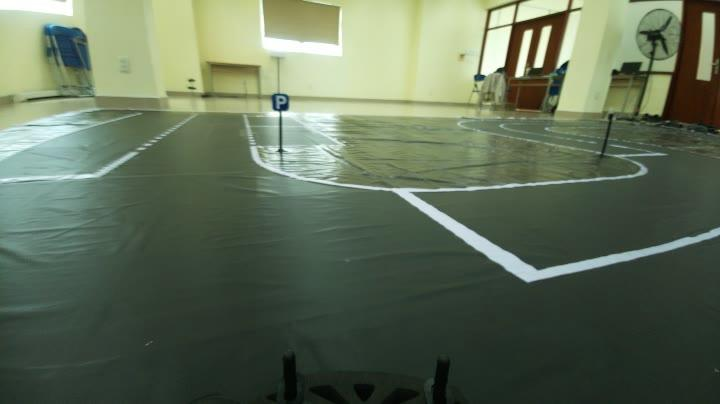parking: (270, 89, 290, 110)
